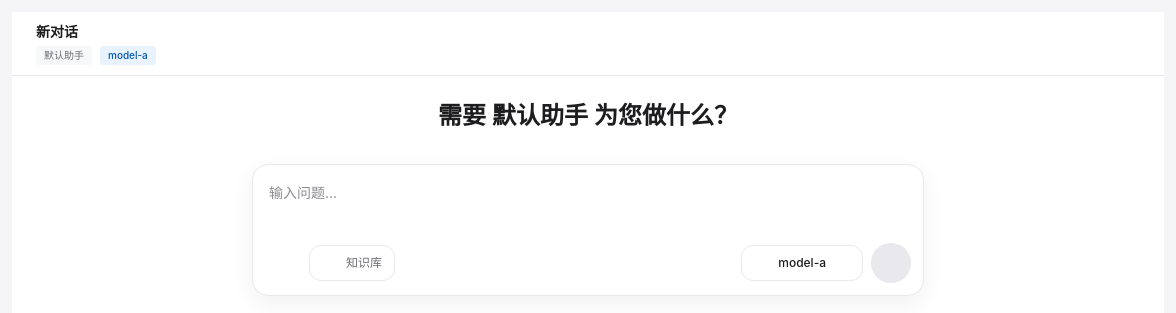
Chat 模型切换 › 模型列表为空时弹层给出空态而不是空白
Click the button "model-a".
click(802, 263)  # box [741,245,863,281]
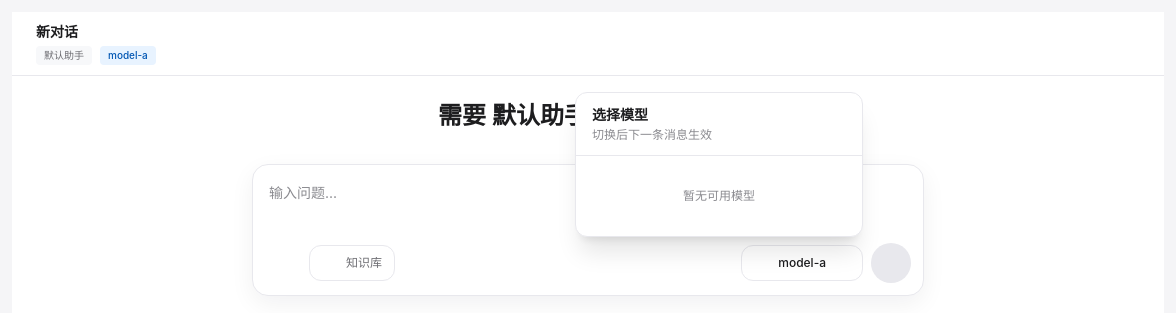
Expected: the text "暂无可用模型" is shown, [683,188,755,203]
